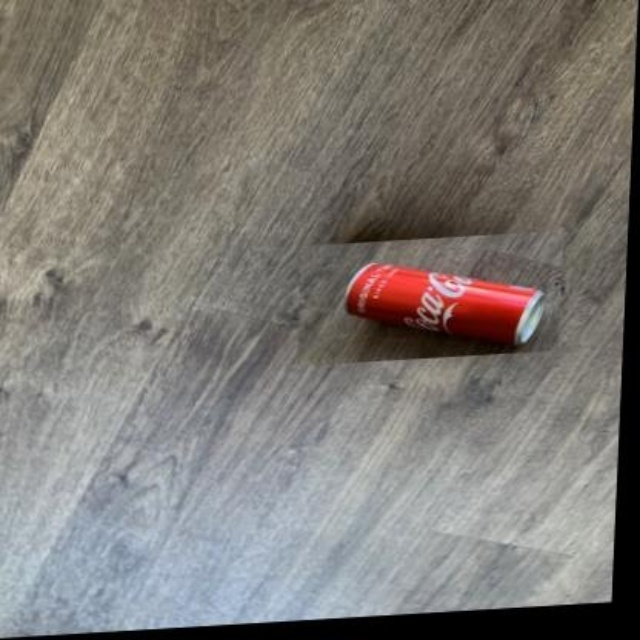trash: (346, 263, 542, 343)
